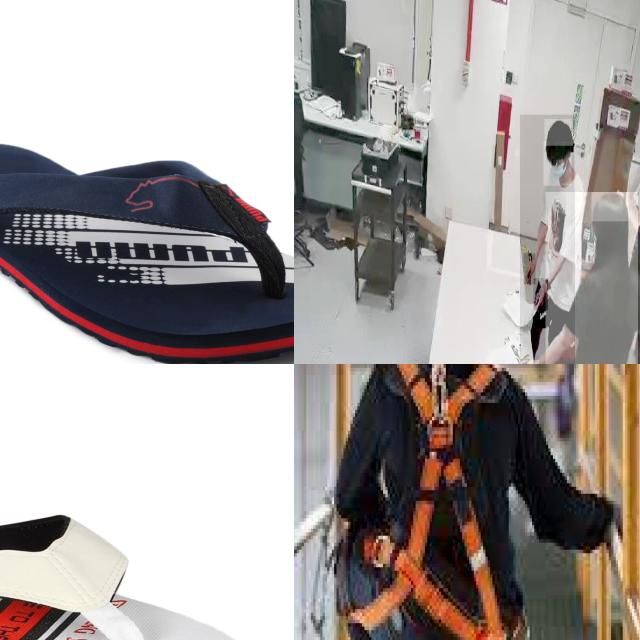Harness: (384, 364, 507, 640)
Sandals: (0, 139, 294, 364), (0, 483, 254, 640)
face_mask: (544, 141, 572, 186)
hand_noglove: (534, 278, 548, 311), (524, 253, 536, 286)
head_nohelmet: (591, 192, 629, 222), (544, 119, 574, 147)
person: (545, 192, 638, 364), (520, 114, 575, 364)
